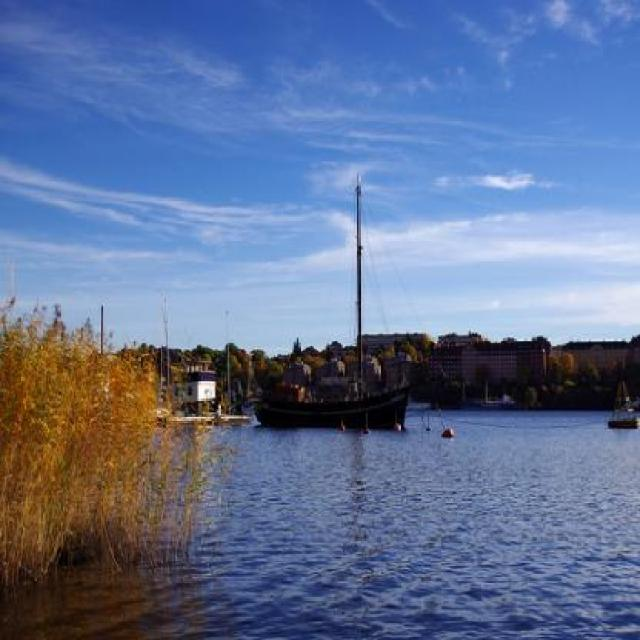ship: (251, 376, 409, 430)
